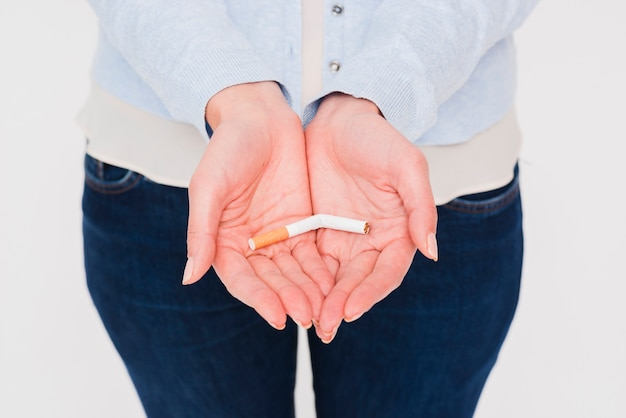cigarette: (247, 212, 375, 252)
